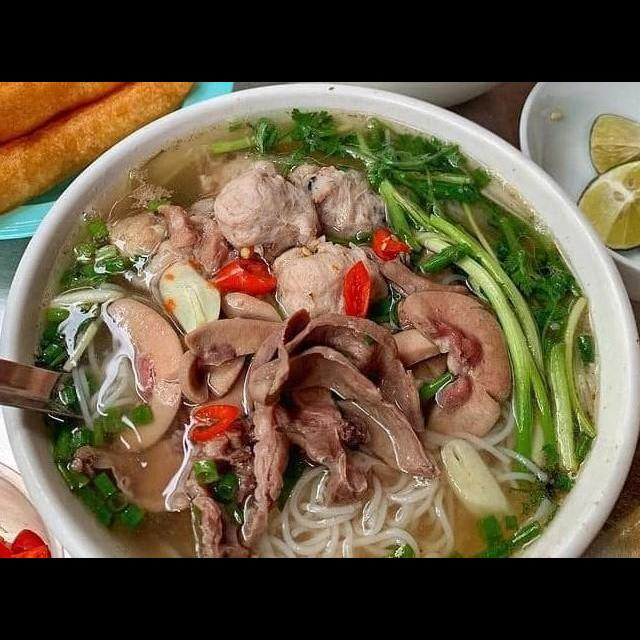bun: (252, 462, 458, 558), (54, 314, 147, 438)
vien moc: (268, 232, 390, 328), (211, 165, 319, 254), (282, 160, 389, 240)
